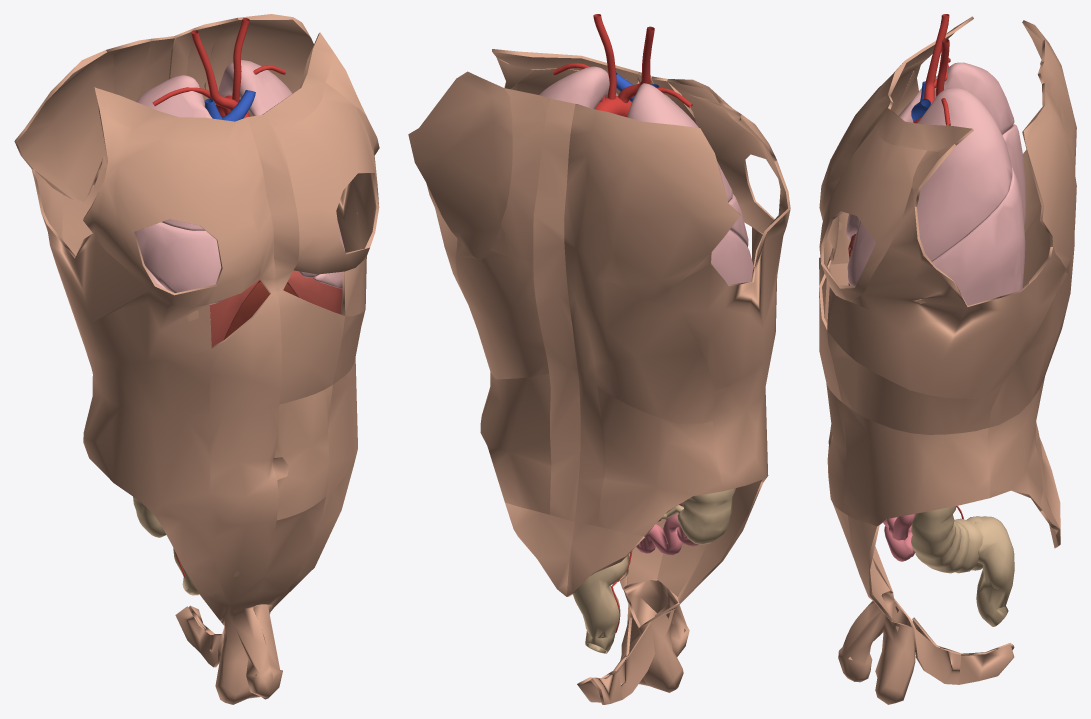
The model's file is si_scene_v1_lite.glb.
3 renders of one model, left to right at view 1: azimuth 30°, elevation 25°; view 2: azimuth 150°, elevation 25°; view 3: azimuth 270°, elevation 25°, orthographic. The views are drawn at different scales.
Visible parts, largest first — view 1: regions.torso_surface, visceral.middle_lobe_of_right_lung, muscular.diaphragm, visceral.superior_lobe_of_left_lung, visceral.superior_lobe_of_right_lung, visceral.liver, cardiovascular.left_common_carotid_artery, cardiovascular.right_common_carotid_artery, visceral.ascending_colon; view 2: regions.torso_surface, visceral.sigmoid_colon, visceral.ascending_colon, visceral.superior_lobe_of_right_lung, visceral.superior_lobe_of_left_lung, visceral.inferior_lobe_of_right_lung, visceral.ileum, cardiovascular.left_common_carotid_artery; view 3: regions.torso_surface, visceral.superior_lobe_of_left_lung, visceral.inferior_lobe_of_left_lung, visceral.descending_colon, visceral.sigmoid_colon, visceral.superior_lobe_of_right_lung, visceral.ileum, visceral.inferior_lobe_of_right_lung, cardiovascular.right_common_carotid_artery, cardiovascular.left_common_carotid_artery.
Part boxes in pixels (<box>): regions.torso_surface: <box>14,14,379,704</box>; visceral.middle_lobe_of_right_lung: <box>135,222,224,304</box>; muscular.diaphragm: <box>209,270,342,346</box>; visceral.superior_lobe_of_left_lung: <box>218,60,319,277</box>; visceral.superior_lobe_of_right_lung: <box>136,75,212,230</box>; visceral.liver: <box>225,281,296,338</box>; cardiovascular.left_common_carotid_artery: <box>232,18,249,102</box>; cardiovascular.right_common_carotid_artery: <box>191,30,219,100</box>; visceral.ascending_colon: <box>133,497,166,537</box>; regions.torso_surface: <box>408,49,790,704</box>; visceral.sigmoid_colon: <box>573,555,629,653</box>; visceral.ascending_colon: <box>677,488,735,544</box>; visceral.superior_lobe_of_right_lung: <box>627,83,732,202</box>; visceral.superior_lobe_of_left_lung: <box>539,66,618,109</box>; visceral.inferior_lobe_of_right_lung: <box>711,230,753,284</box>; visceral.ileum: <box>636,502,699,555</box>; cardiovascular.left_common_carotid_artery: <box>593,14,616,99</box>; regions.torso_surface: <box>819,16,1076,704</box>; visceral.superior_lobe_of_left_lung: <box>847,88,1012,286</box>; visceral.inferior_lobe_of_left_lung: <box>932,165,1025,305</box>; visceral.descending_colon: <box>911,506,983,573</box>; visceral.sigmoid_colon: <box>975,516,1014,626</box>; visceral.superior_lobe_of_right_lung: <box>898,62,1014,134</box>; visceral.ileum: <box>883,514,915,561</box>; visceral.inferior_lobe_of_right_lung: <box>1002,124,1025,225</box>; cardiovascular.right_common_carotid_artery: <box>925,14,949,86</box>; cardiovascular.left_common_carotid_artery: <box>936,39,949,96</box>.
Bounding box in the file's own units: 0.3866 × 0.7624 × 0.2666.
